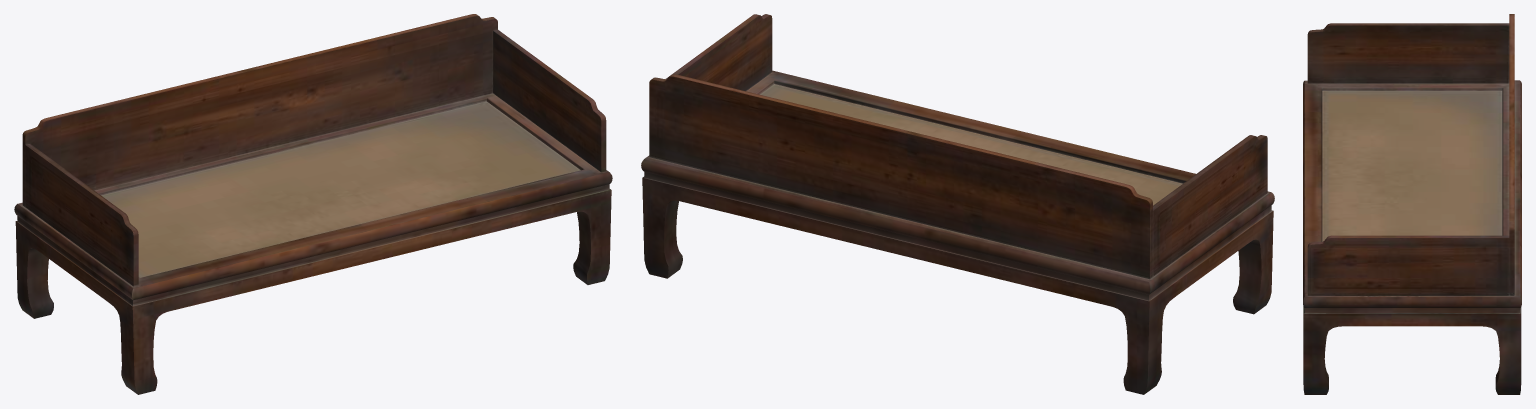
The picture shows the model from 3 angles, left to right: view 1: azimuth 30°, elevation 25°; view 2: azimuth 150°, elevation 25°; view 3: azimuth 270°, elevation 25°; orthographic projection. The views are drawn at different scales.
Visible parts, largest first — view 1: chinese_sofa; view 2: chinese_sofa; view 3: chinese_sofa.
Boxes of the visible parts, x1,y1,x2,y2 form: chinese_sofa: (14,14,612,394); chinese_sofa: (641,14,1274,394); chinese_sofa: (1303,14,1521,394).
Size of the model in its own units: 2.29 by 0.86 by 0.9689.
1 material, 1 textured.
